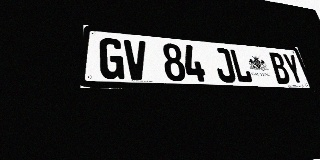4: (182, 44, 206, 82)
8: (162, 43, 187, 81)
B: (268, 52, 292, 84)
G: (99, 37, 124, 79)
J: (212, 47, 237, 83)
L: (229, 49, 253, 83)
V: (124, 39, 148, 80)
Y: (281, 53, 305, 84)
